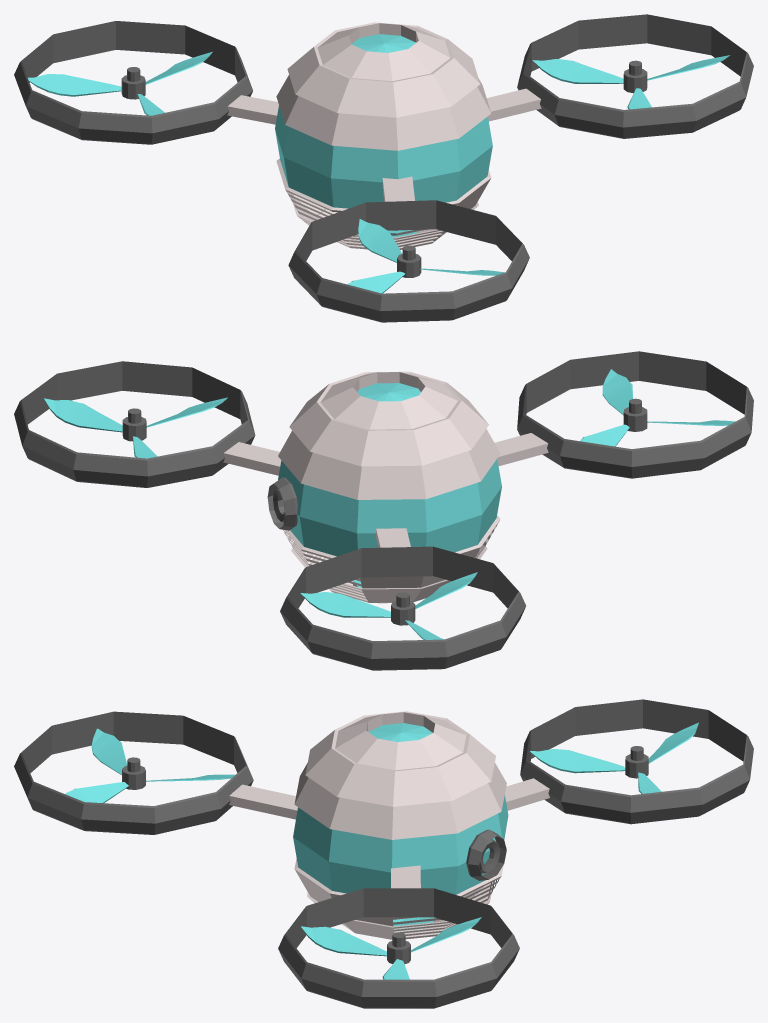
Rendered from Drone.fbx.
3 views of the same model, one above another, from view 1: azimuth 30°, elevation 25°; view 2: azimuth 150°, elevation 25°; view 3: azimuth 270°, elevation 25° (orthographic).
Visible parts, largest first — view 1: drone1; view 2: drone1; view 3: drone1.
Boxes of the visible parts, x1,y1,x2,y2 form: drone1: (14, 14, 753, 322); drone1: (14, 351, 753, 670); drone1: (14, 699, 753, 1008).
Size of the model in its own units: 3.64 by 1.17 by 3.98.
